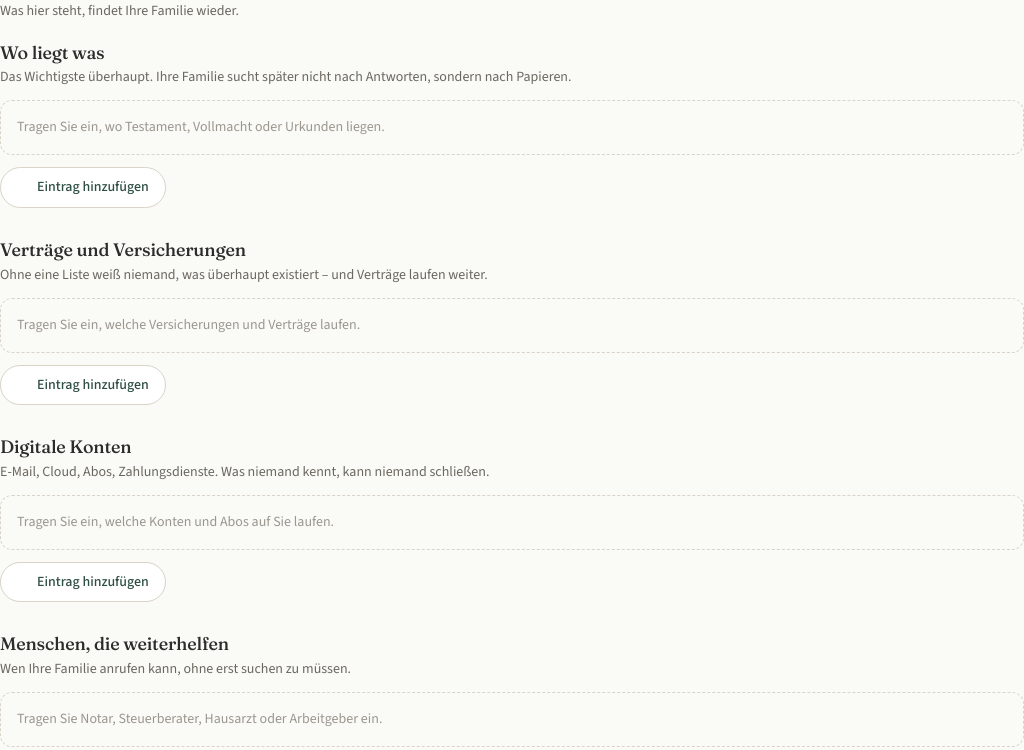
EntriesPanel › refuses an entry without a title and says so at the field
Step 1. Click the button "Eintrag hinzufügen" below "Wo liegt was" → x=83, y=188, box [0,167,166,208]
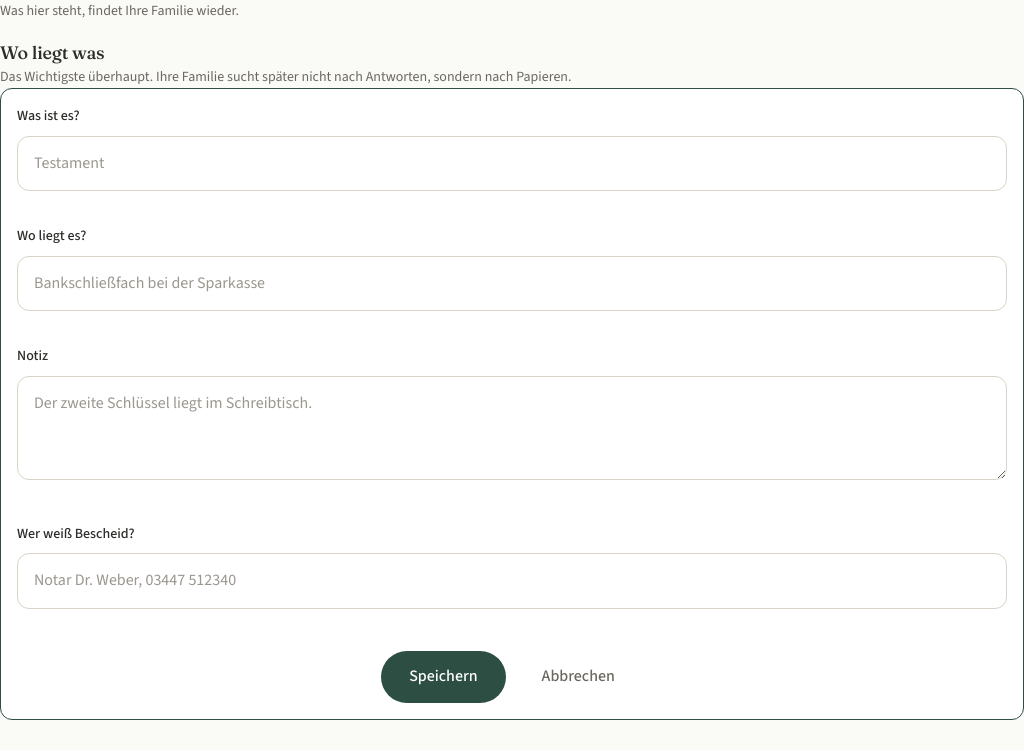
Step 2. Submit the form with class "entry-form"
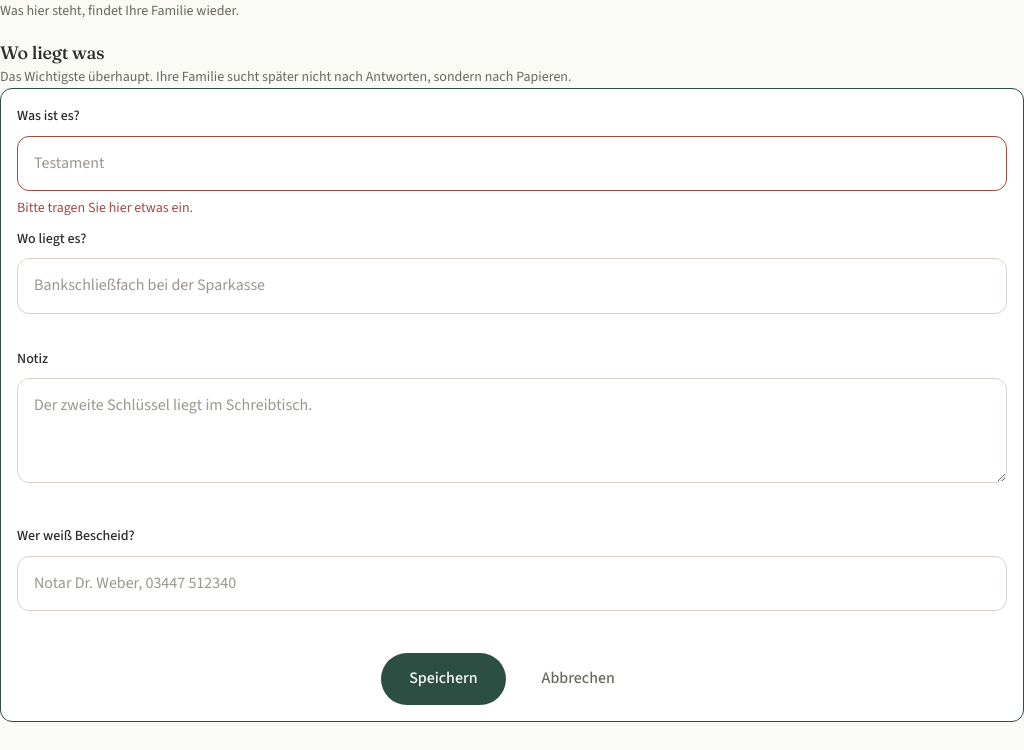
Expected: the text with class "form-field__error" reads "Bitte tragen Sie hier etwas ein.", [17,198,193,218]
